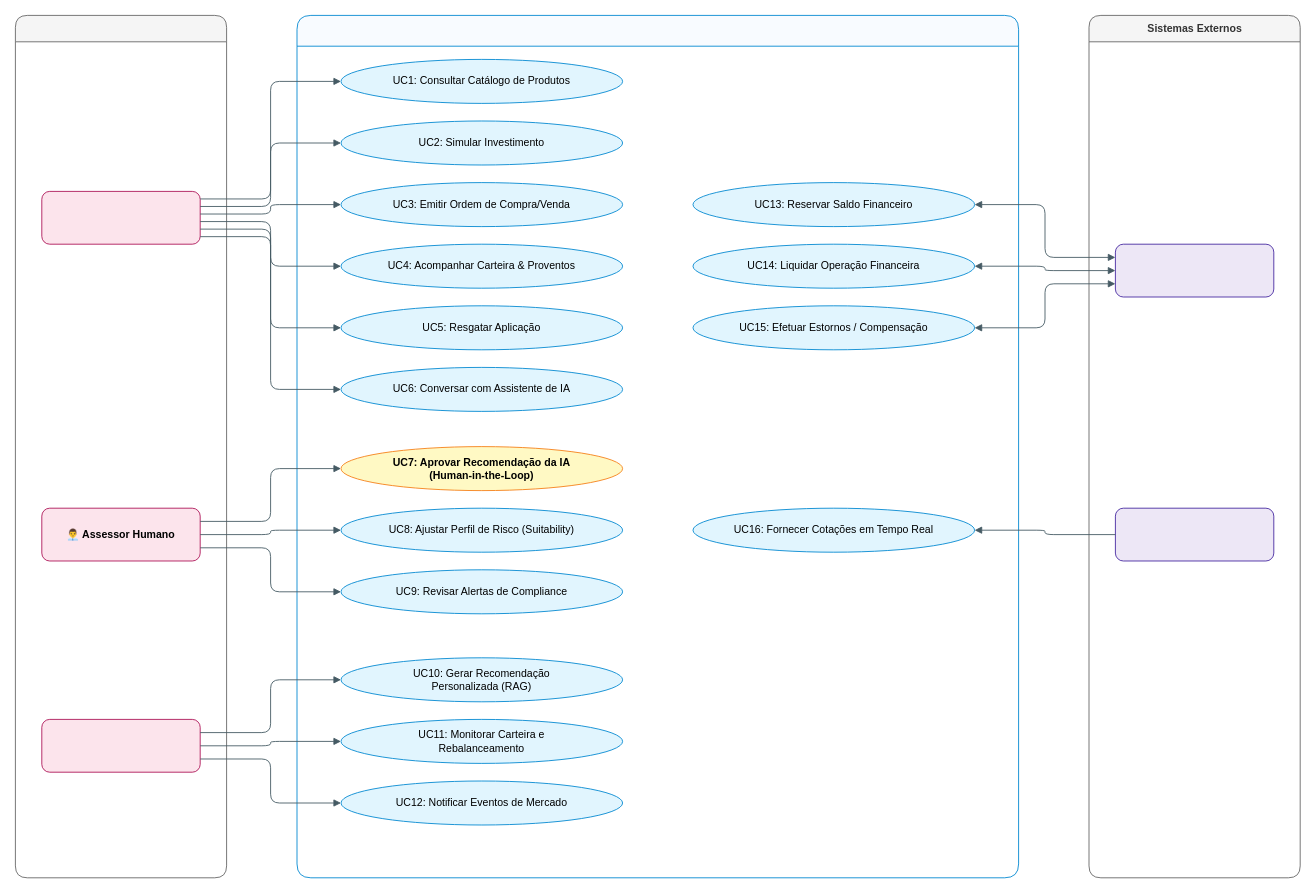
This 1316x893 diagram has some shape labels left out. Each missing label, with the box of its shape:
Atores Primários & IA: (15, 15, 227, 878)
Sistema de Investimentos Bank OnlineX: (296, 15, 1019, 878)
🏛️ Core Bancário: (1115, 243, 1274, 297)
👤 Cliente (Investidor PF): (41, 191, 200, 244)
📈 Provedor Market Data: (1115, 507, 1274, 561)
🤖 Agente de IA: (41, 719, 200, 772)
